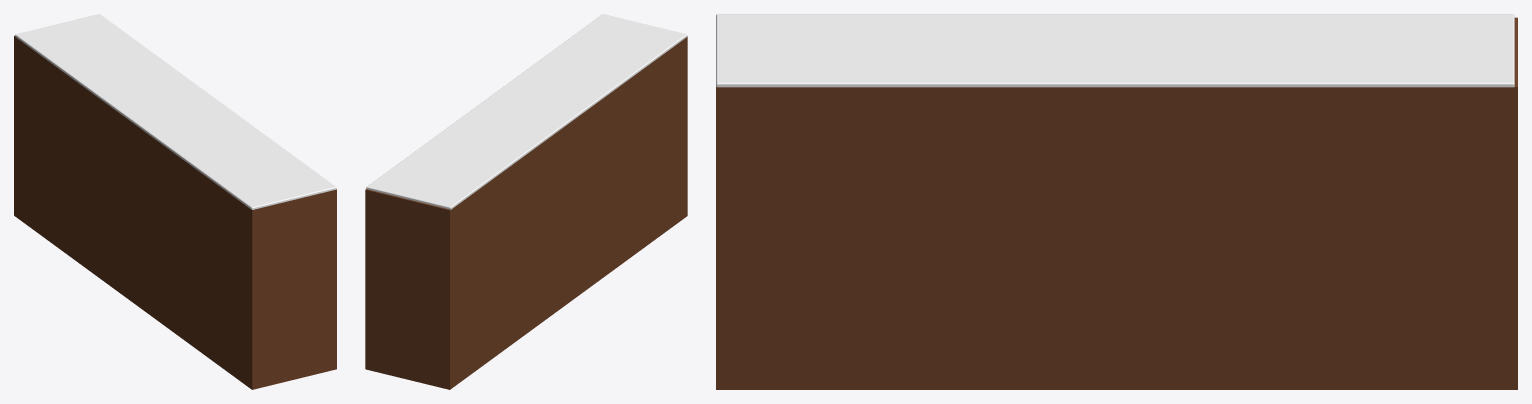
The model's file is presentoirs_low.glb.
The picture shows the model from 3 angles, left to right: view 1: azimuth 30°, elevation 25°; view 2: azimuth 150°, elevation 25°; view 3: azimuth 270°, elevation 25°; orthographic projection. The views are drawn at different scales.
Visible parts, largest first — view 1: presentoirs_low; view 2: presentoirs_low; view 3: presentoirs_low.
Part boxes in pixels (left/top/right/bottom): presentoirs_low: left=14, top=14, right=336, bottom=389; presentoirs_low: left=365, top=14, right=687, bottom=389; presentoirs_low: left=716, top=14, right=1517, bottom=389.
Size of the model in its own units: 0.5254 by 1.07 by 2.55.
